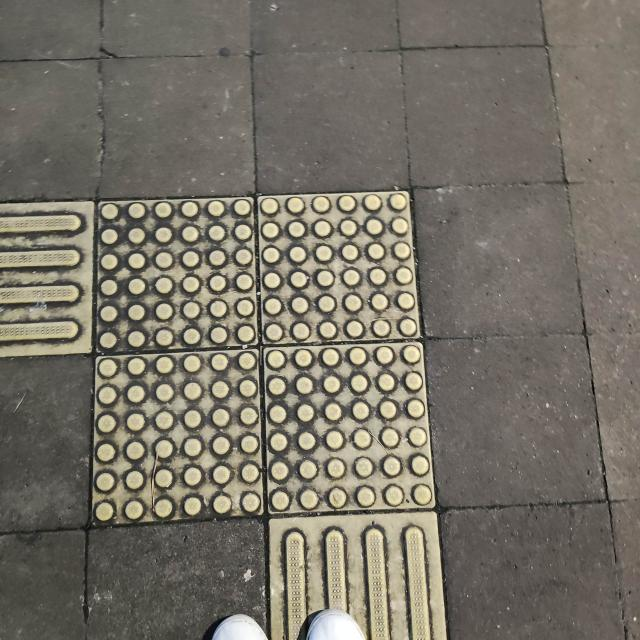kiri: (0, 165, 506, 628)
